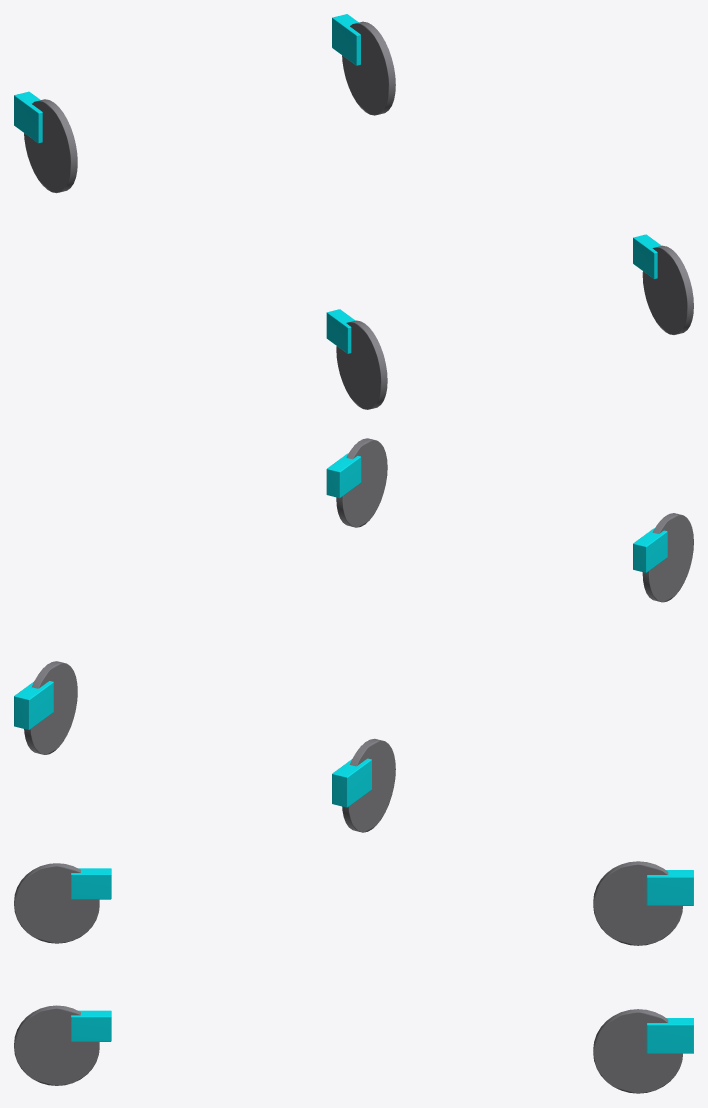
File: brakes.glb
3 views of the same model, one above another, from view 1: azimuth 30°, elevation 25°; view 2: azimuth 150°, elevation 25°; view 3: azimuth 270°, elevation 25° (orthographic). The views are drawn at different scales.
Visible parts, largest first — view 1: BRAKE_Rotor_Front_FR, BRAKE_Rotor_Front_FL, BRAKE_Rotor_Rear_RL, BRAKE_Rotor_Rear_RR, BRAKE_Caliper_Front_FR, BRAKE_Caliper_Front_FL, BRAKE_Caliper_Rear_RR, BRAKE_Caliper_Rear_RL; view 2: BRAKE_Rotor_Front_FR, BRAKE_Rotor_Front_FL, BRAKE_Rotor_Rear_RR, BRAKE_Rotor_Rear_RL, BRAKE_Caliper_Front_FL, BRAKE_Caliper_Front_FR, BRAKE_Caliper_Rear_RL, BRAKE_Caliper_Rear_RR; view 3: BRAKE_Rotor_Front_FL, BRAKE_Rotor_Front_FR, BRAKE_Rotor_Rear_RR, BRAKE_Rotor_Rear_RL, BRAKE_Caliper_Front_FL, BRAKE_Caliper_Front_FR, BRAKE_Caliper_Rear_RL, BRAKE_Caliper_Rear_RR.
Boxes of the visible parts, bbox=[...] form: BRAKE_Rotor_Front_FR: bbox=[24, 99, 77, 193]; BRAKE_Rotor_Front_FL: bbox=[342, 21, 395, 115]; BRAKE_Rotor_Rear_RL: bbox=[642, 245, 693, 334]; BRAKE_Rotor_Rear_RR: bbox=[336, 320, 387, 409]; BRAKE_Caliper_Front_FR: bbox=[14, 91, 42, 143]; BRAKE_Caliper_Front_FL: bbox=[332, 14, 360, 65]; BRAKE_Caliper_Rear_RR: bbox=[326, 309, 355, 353]; BRAKE_Caliper_Rear_RL: bbox=[633, 234, 661, 279]; BRAKE_Rotor_Front_FR: bbox=[342, 738, 395, 832]; BRAKE_Rotor_Front_FL: bbox=[24, 661, 77, 754]; BRAKE_Rotor_Rear_RR: bbox=[642, 513, 693, 602]; BRAKE_Rotor_Rear_RL: bbox=[336, 438, 387, 527]; BRAKE_Caliper_Front_FL: bbox=[14, 681, 53, 729]; BRAKE_Caliper_Front_FR: bbox=[332, 758, 371, 807]; BRAKE_Caliper_Rear_RL: bbox=[326, 453, 361, 497]; BRAKE_Caliper_Rear_RR: bbox=[633, 528, 667, 572]; BRAKE_Rotor_Front_FL: bbox=[593, 1009, 682, 1093]; BRAKE_Rotor_Front_FR: bbox=[593, 861, 682, 945]; BRAKE_Rotor_Rear_RR: bbox=[14, 863, 99, 943]; BRAKE_Rotor_Rear_RL: bbox=[14, 1005, 99, 1085]; BRAKE_Caliper_Front_FL: bbox=[646, 1018, 693, 1053]; BRAKE_Caliper_Front_FR: bbox=[646, 870, 693, 905]; BRAKE_Caliper_Rear_RL: bbox=[71, 1010, 111, 1041]; BRAKE_Caliper_Rear_RR: bbox=[71, 868, 111, 899].
Size of the model in its own units: 1.71 by 0.425 by 3.17.
